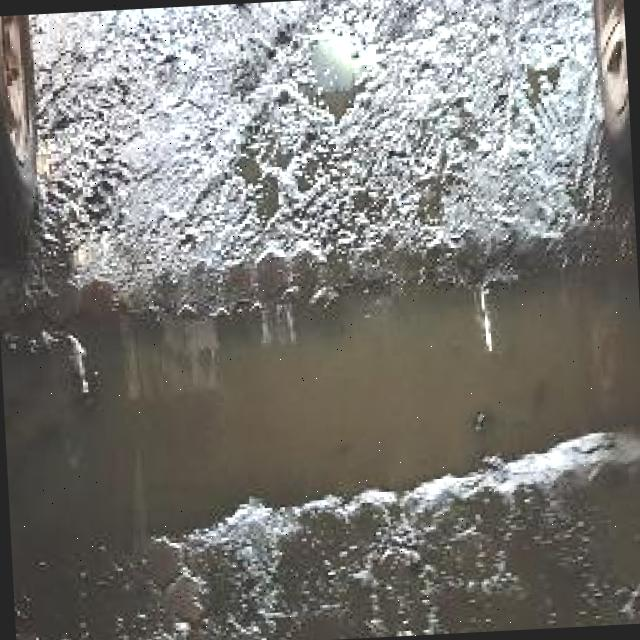waterlogging: (111, 232, 640, 544)
